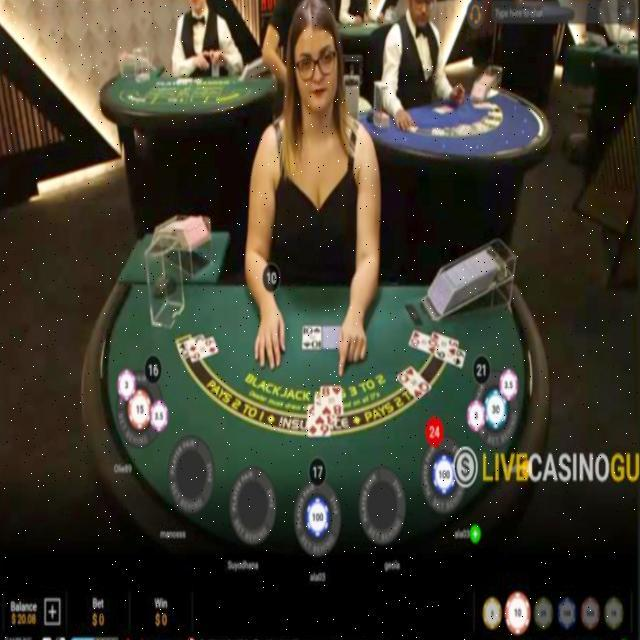Card-10: (302, 325, 322, 350)
Card-3: (314, 393, 337, 426)
Card-5: (432, 331, 459, 356)
Card-6: (188, 336, 218, 363), (308, 404, 330, 437), (435, 348, 466, 370)
Card-8: (321, 385, 343, 416)
Card-Q: (396, 364, 432, 401), (408, 329, 438, 356)
